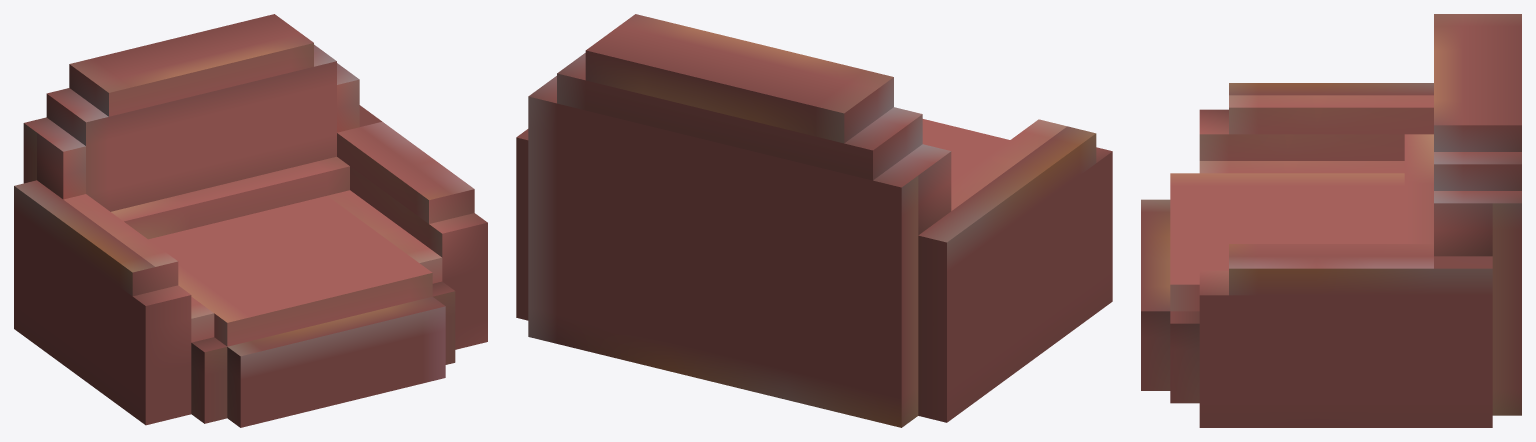
File: CouchBeanRed_00.fbx
The picture shows the model from 3 angles, left to right: view 1: azimuth 30°, elevation 25°; view 2: azimuth 150°, elevation 25°; view 3: azimuth 270°, elevation 25°; orthographic projection. The views are drawn at different scales.
Parts seen in each view (by area): view 1: CouchBeanRed_00; view 2: CouchBeanRed_00; view 3: CouchBeanRed_00.
Boxes of the visible parts, x1=… form: CouchBeanRed_00: x1=14, y1=14, x2=487, y2=427; CouchBeanRed_00: x1=516, y1=14, x2=1112, y2=427; CouchBeanRed_00: x1=1141, y1=14, x2=1521, y2=427.
Size of the model in its own units: 75 by 65 by 50.
Materials: 1 (1 with a texture image).
